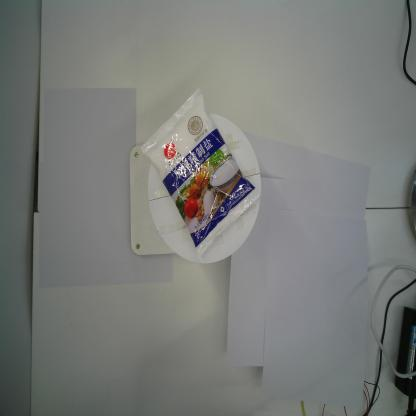Seasoner: (141, 89, 261, 258)
